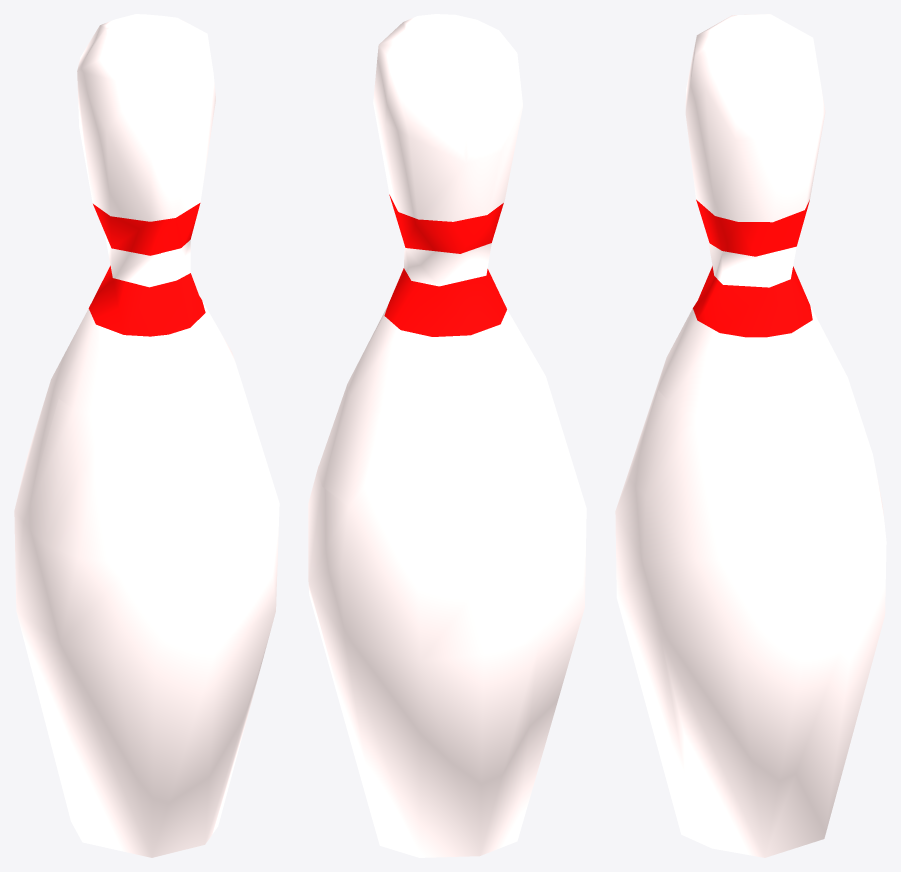
Rendered from white_bowlingpin.glb.
3 views of the same model, side by side, from view 1: azimuth 30°, elevation 25°; view 2: azimuth 150°, elevation 25°; view 3: azimuth 270°, elevation 25° (orthographic).
Parts seen in each view (by area): view 1: White_BowlingPin; view 2: White_BowlingPin; view 3: White_BowlingPin.
Part boxes in pixels (x1=…): White_BowlingPin: x1=14, y1=14, x2=279, y2=857; White_BowlingPin: x1=308, y1=14, x2=586, y2=857; White_BowlingPin: x1=615, y1=14, x2=886, y2=857.
Bounding box in the file's own units: 0.2628 × 0.8637 × 0.2657.
Materials: 1 (1 with a texture image).
